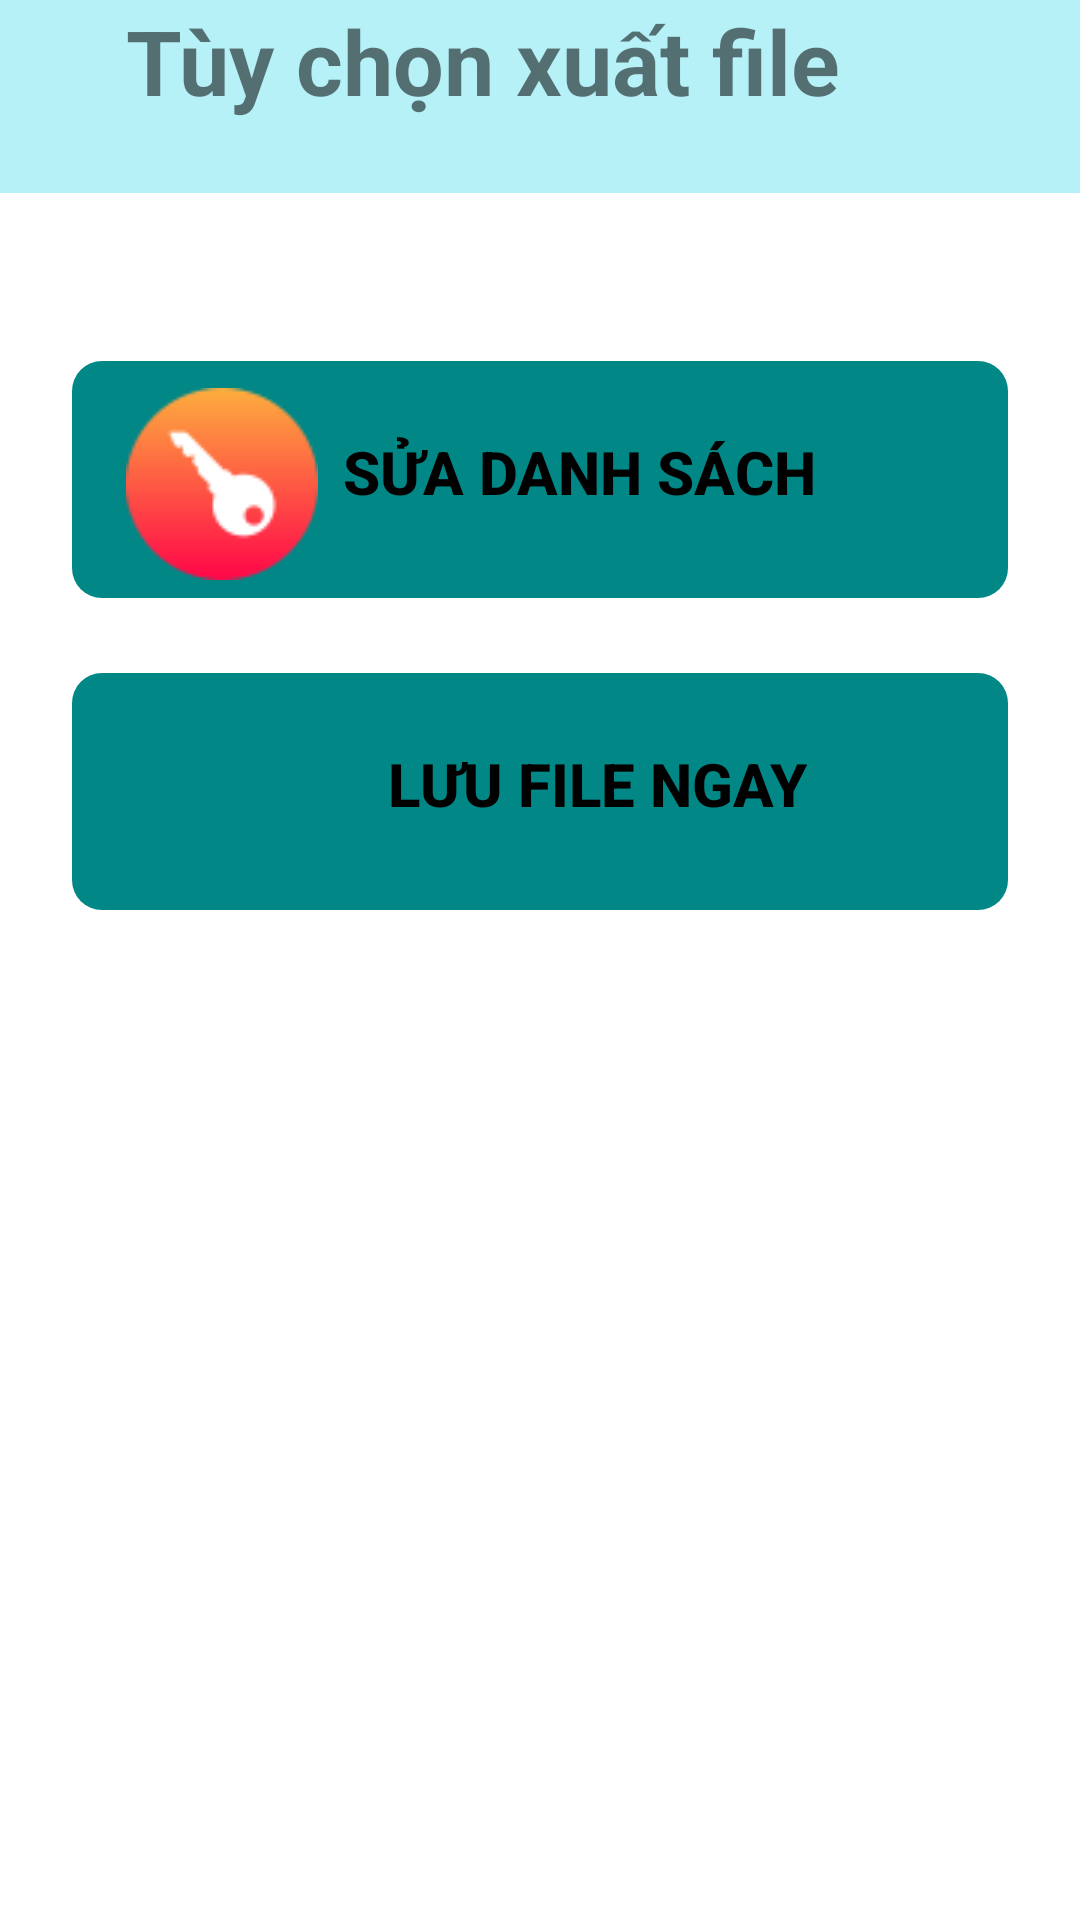

Icon bounding boxes for this 1080x1920 phone screenshot, format rect(x1, y1, x2, y2):
key: rect(126, 388, 318, 580)
